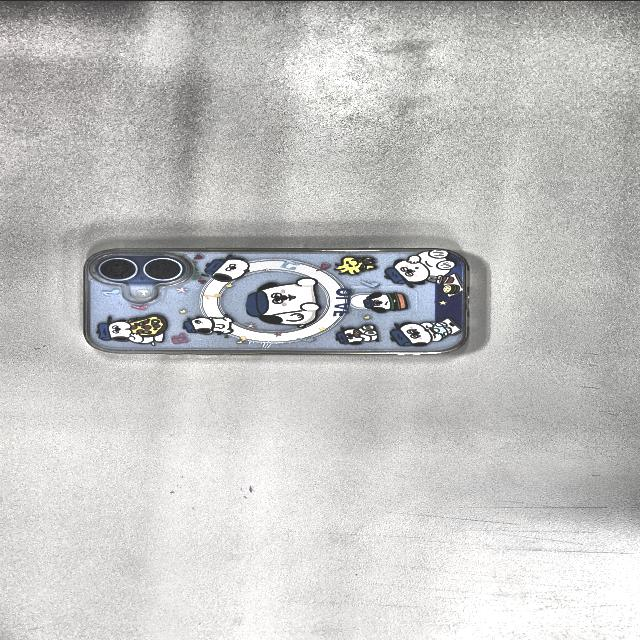PHONE: (85, 247, 468, 355)
